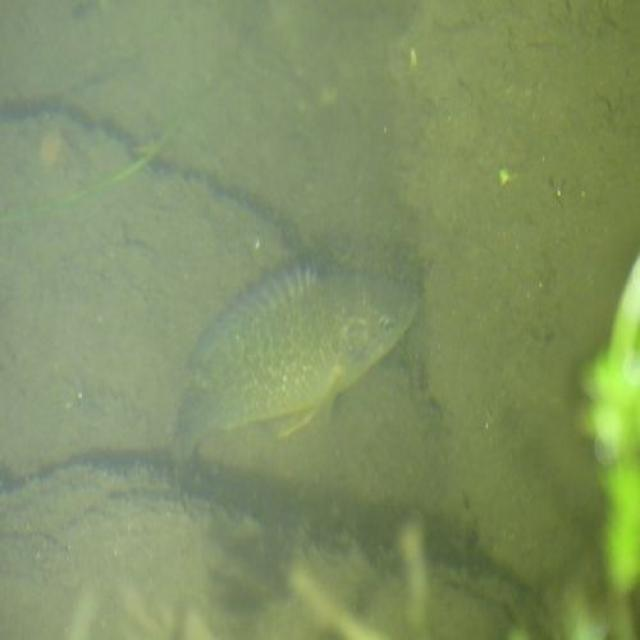Gunes Levregi: (172, 245, 424, 511)
